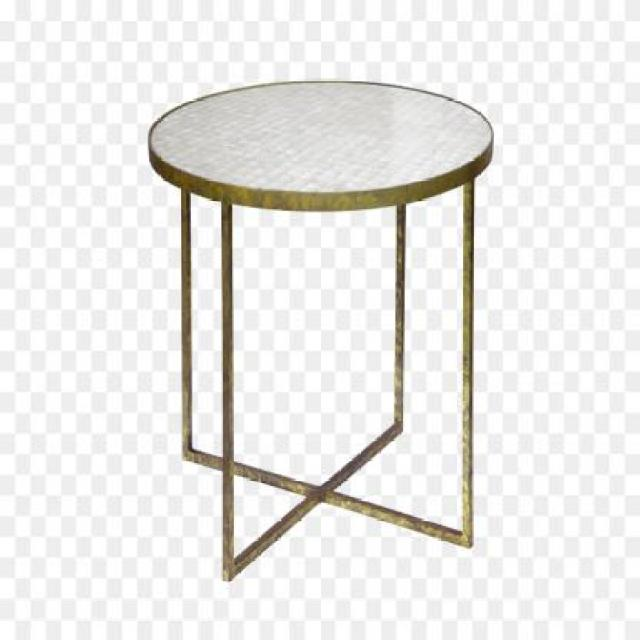table: (146, 76, 494, 581)
